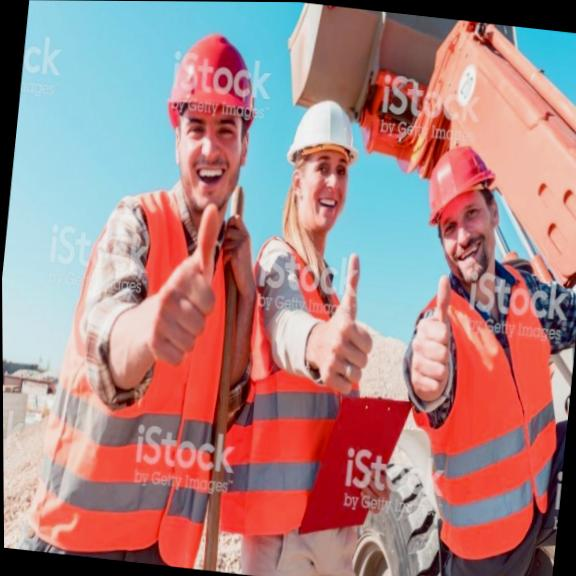safety_vest: (37, 189, 250, 571), (227, 240, 399, 538), (407, 293, 575, 561)
